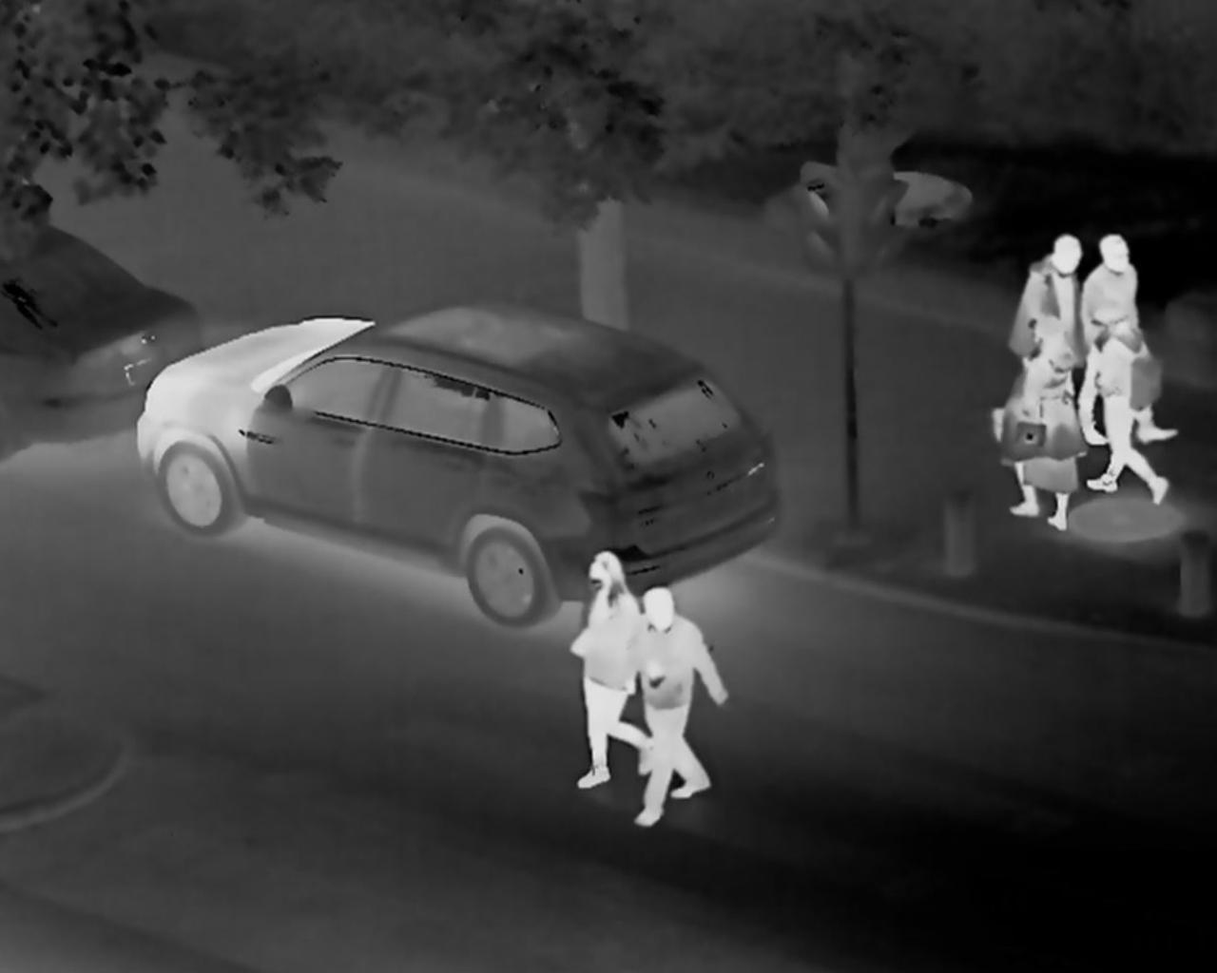person: (625, 587, 730, 830), (1076, 225, 1179, 446), (566, 545, 653, 792), (1075, 299, 1175, 507), (994, 315, 1083, 539), (1009, 231, 1077, 410)
